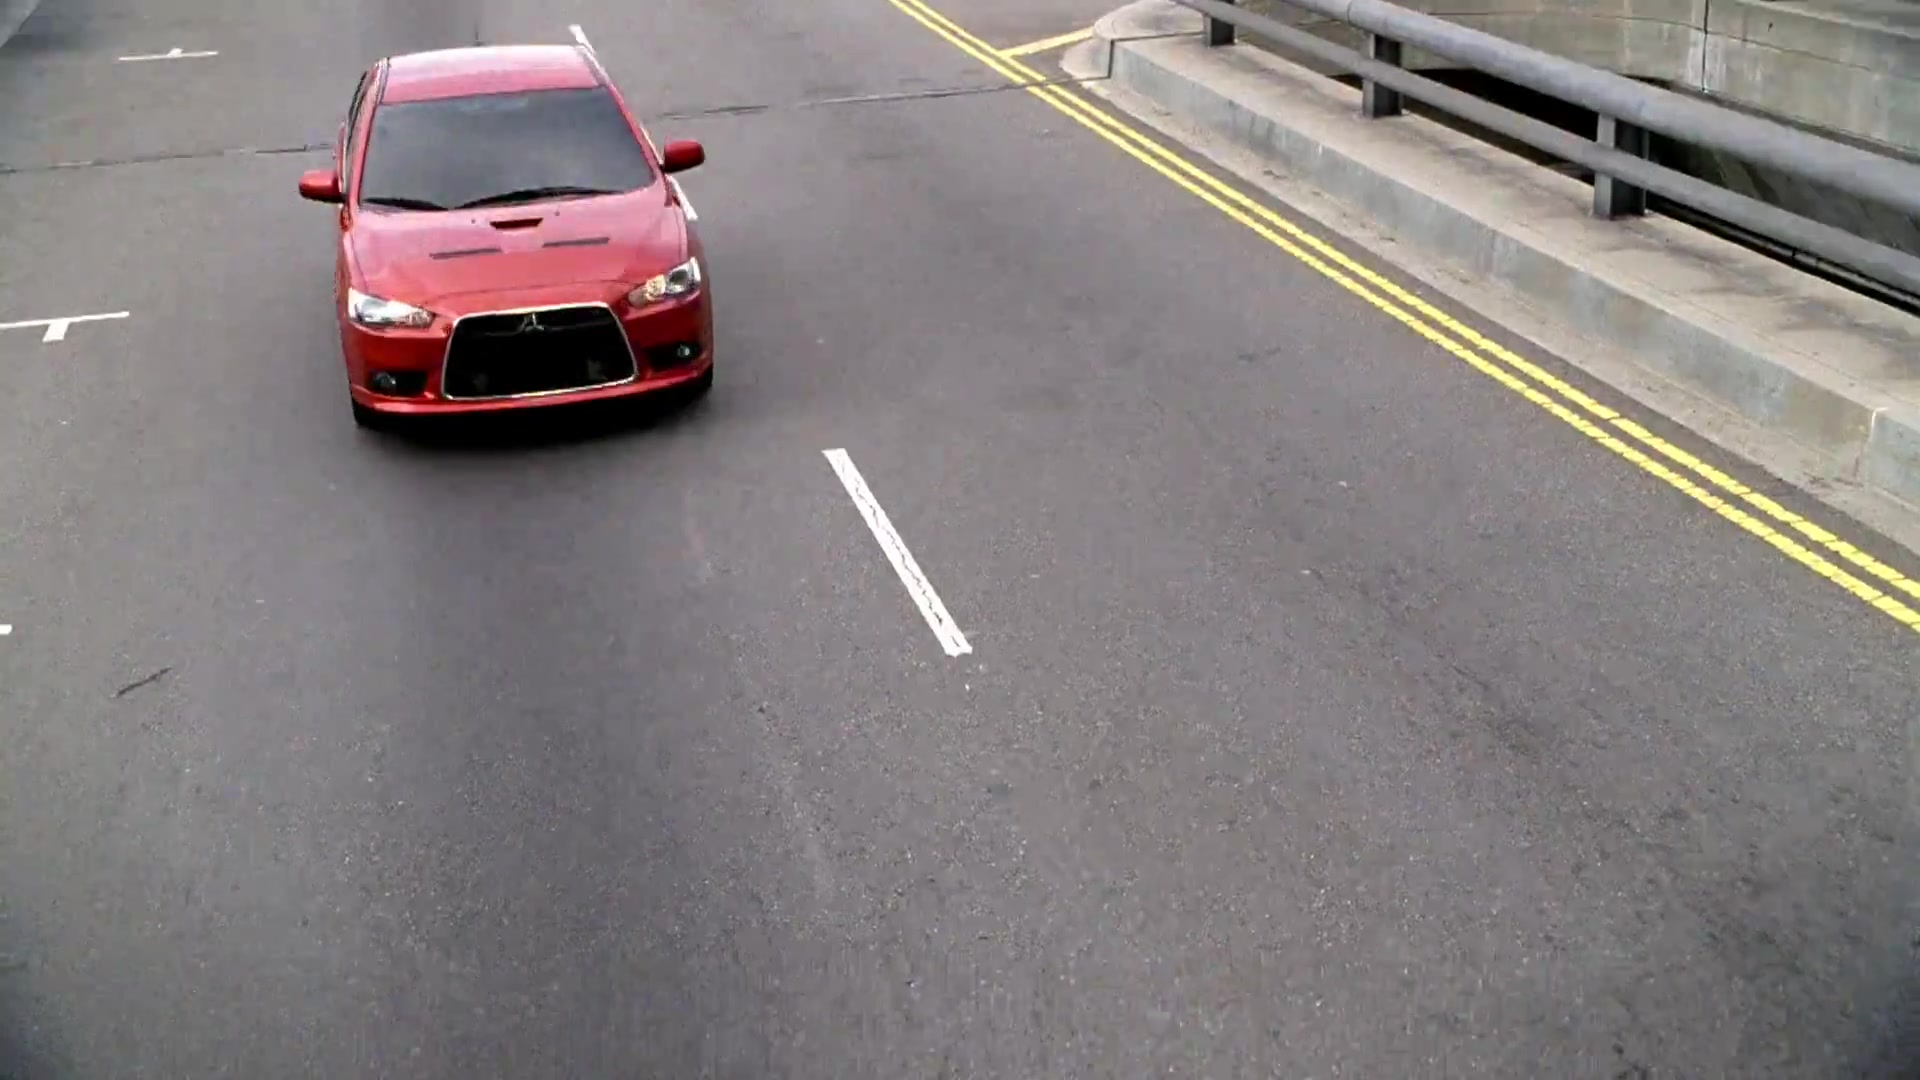car: (298, 30, 727, 448)
